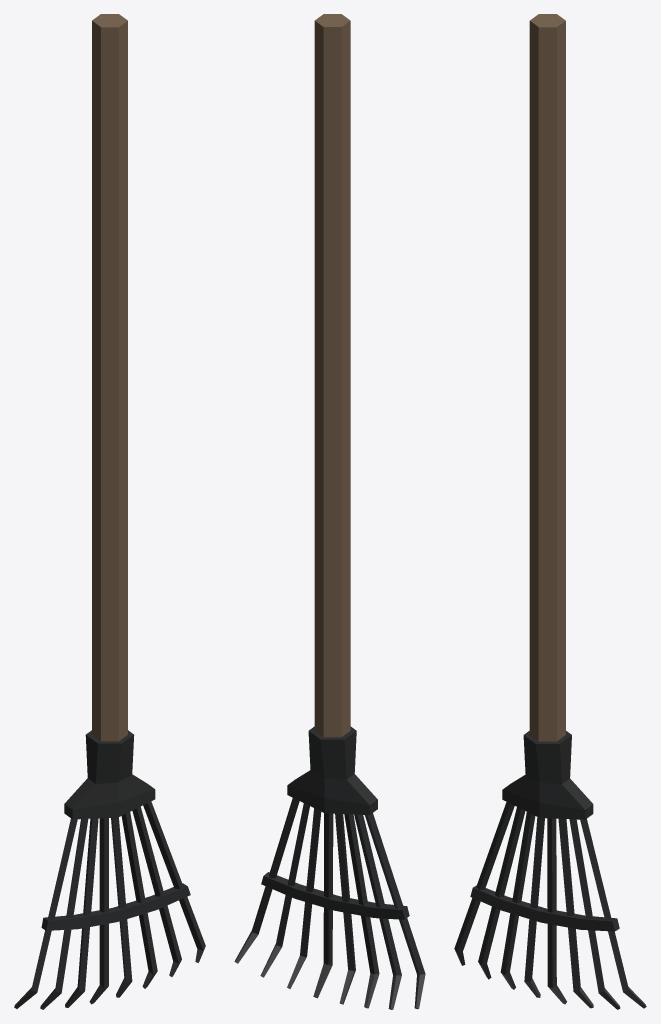
The model's file is SM_Props_Farm_Tool_Rake_02.fbx.
3 renders of one model, left to right at view 1: azimuth 30°, elevation 25°; view 2: azimuth 150°, elevation 25°; view 3: azimuth 330°, elevation 25°, orthographic.
Visible parts, largest first — view 1: SM_Props_Farm_Tool_Rake_02; view 2: SM_Props_Farm_Tool_Rake_02; view 3: SM_Props_Farm_Tool_Rake_02.
Boxes of the visible parts, <box> form: SM_Props_Farm_Tool_Rake_02: <box>14,14,205,1009</box>; SM_Props_Farm_Tool_Rake_02: <box>234,14,425,1009</box>; SM_Props_Farm_Tool_Rake_02: <box>454,14,646,1009</box>.
Bounding box in the file's own units: 23.77 × 120 × 5.37.
